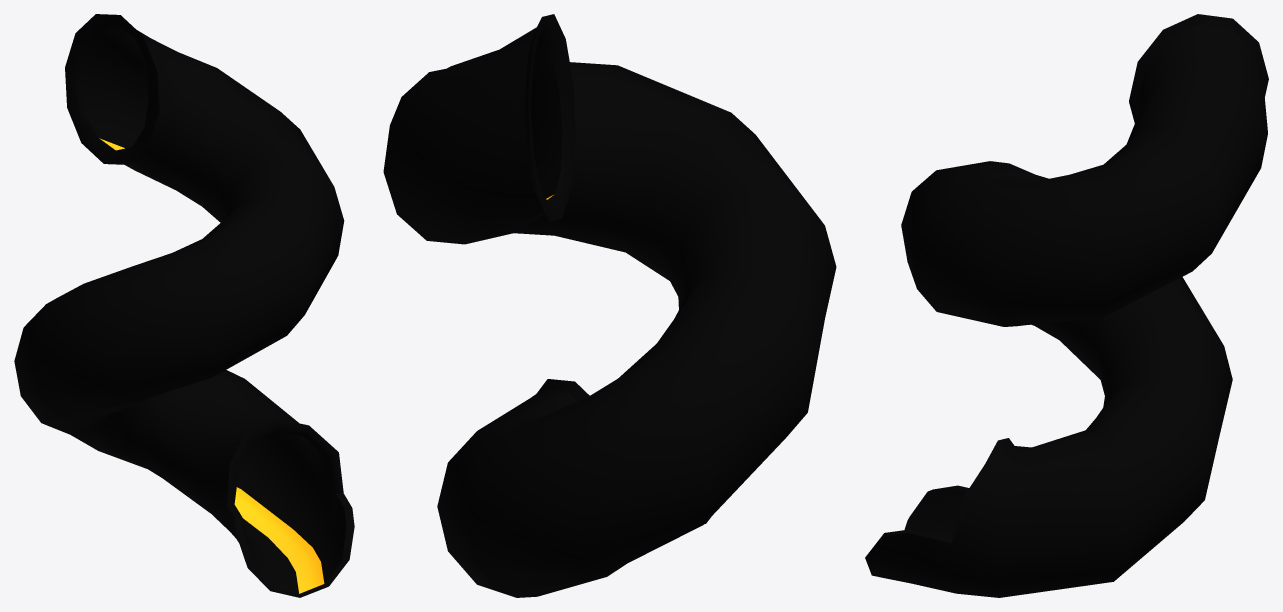
Rendered from Big_Tube_Emissive.glb.
3 views of the same model, side by side, from view 1: azimuth 30°, elevation 25°; view 2: azimuth 150°, elevation 25°; view 3: azimuth 270°, elevation 25° (orthographic). The views are drawn at different scales.
Visible parts, largest first — view 1: BigTube; view 2: BigTube; view 3: BigTube.
Boxes of the visible parts, x1,y1,x2,y2 form: BigTube: (14, 14, 354, 597); BigTube: (383, 14, 836, 597); BigTube: (865, 14, 1268, 597).
Size of what is drawn, in the model's own units: 9.02 by 14.32 by 9.64.
1 material, 1 textured.
